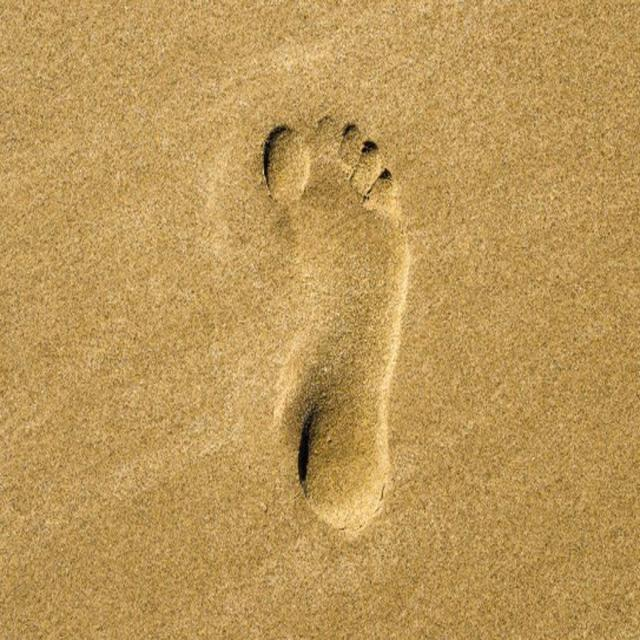human_foot_print: (252, 108, 417, 539)
